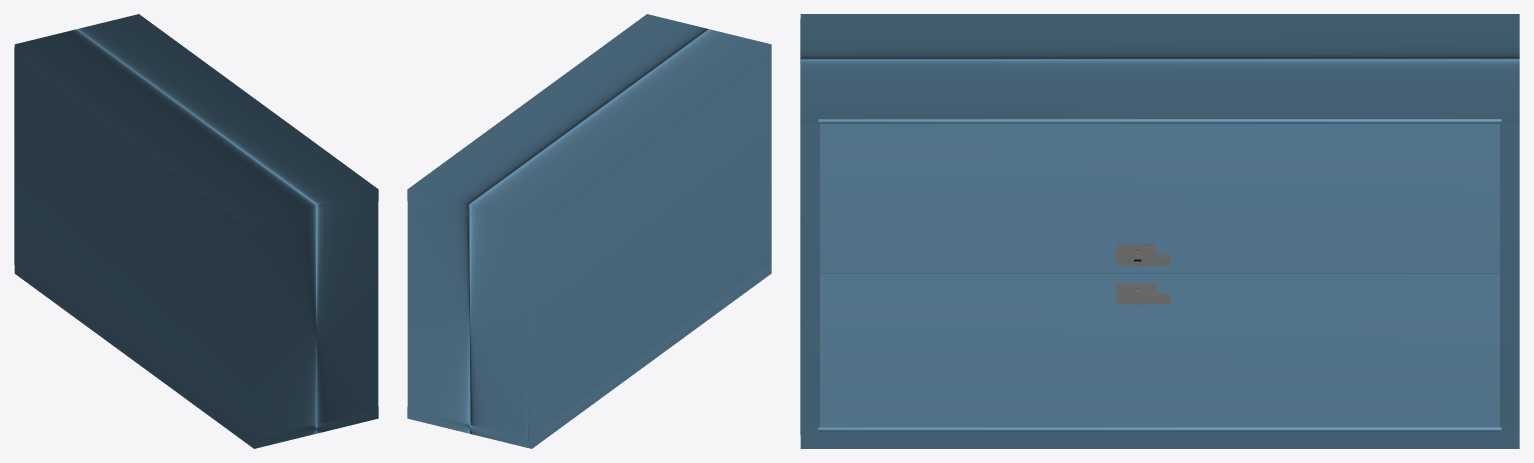
Rendered from BlueFileCabnet.fbx.
3 renders of one model, left to right at view 1: azimuth 30°, elevation 25°; view 2: azimuth 150°, elevation 25°; view 3: azimuth 270°, elevation 25°, orthographic. The views are drawn at different scales.
Parts seen in each view (by area): view 1: Cube_008; view 2: Cube_008; view 3: Cube_008.
Part boxes in pixels (x1=…): Cube_008: x1=14, y1=14, x2=378, y2=448; Cube_008: x1=407, y1=14, x2=771, y2=448; Cube_008: x1=800, y1=14, x2=1519, y2=448.
Size of the model in its own units: 1.27 by 2.11 by 4.
